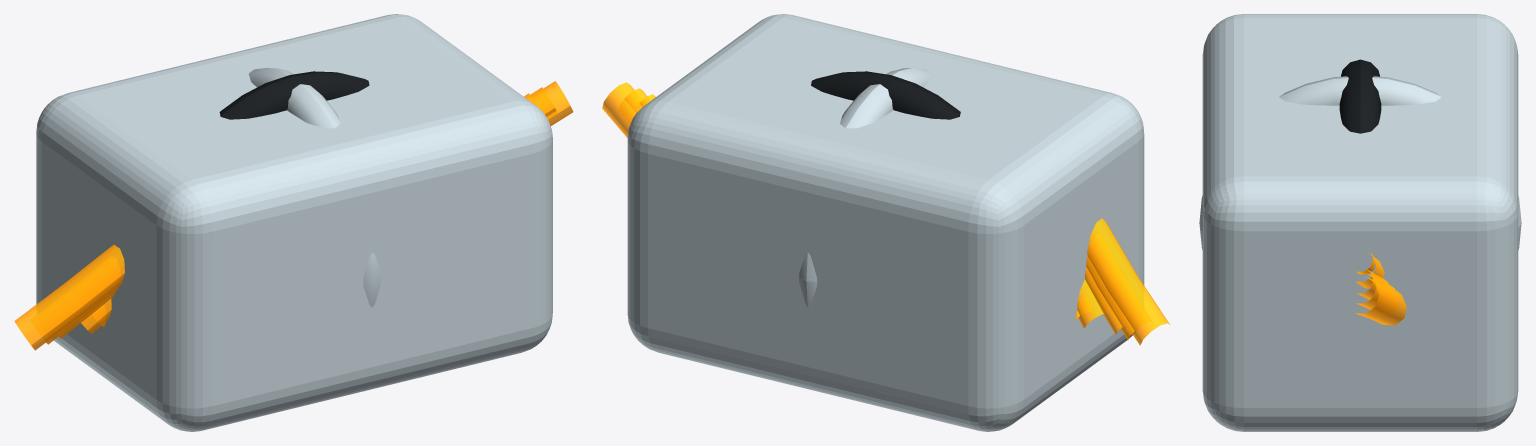
The model's file is remaining_systems_09.glb.
3 views of the same model, side by side, from view 1: azimuth 30°, elevation 25°; view 2: azimuth 150°, elevation 25°; view 3: azimuth 270°, elevation 25° (orthographic).
Parts seen in each view (by area): view 1: asset_mesh__remaining_systems_0908__reference_body, asset_mesh__remaining_systems_0971__fluid_path, asset_mesh__remaining_systems_0970__service_element, asset_mesh__remaining_systems_0916__functional_ring, asset_mesh__remaining_systems_0979__fluid_path; view 2: asset_mesh__remaining_systems_0908__reference_body, asset_mesh__remaining_systems_0971__fluid_path, asset_mesh__remaining_systems_0970__service_element, asset_mesh__remaining_systems_0916__functional_ring, asset_mesh__remaining_systems_0979__fluid_path, asset_mesh__remaining_systems_0969__fluid_path, asset_mesh__remaining_systems_0976__fluid_path; view 3: asset_mesh__remaining_systems_0908__reference_body, asset_mesh__remaining_systems_0916__functional_ring, asset_mesh__remaining_systems_0970__service_element, asset_mesh__remaining_systems_0971__fluid_path.
Part boxes in pixels (left/top/right/bottom): asset_mesh__remaining_systems_0908__reference_body: left=36, top=14, right=552, bottom=431; asset_mesh__remaining_systems_0971__fluid_path: left=14, top=81, right=573, bottom=350; asset_mesh__remaining_systems_0970__service_element: left=219, top=71, right=369, bottom=119; asset_mesh__remaining_systems_0916__functional_ring: left=248, top=67, right=381, bottom=307; asset_mesh__remaining_systems_0979__fluid_path: left=46, top=87, right=556, bottom=344; asset_mesh__remaining_systems_0908__reference_body: left=627, top=14, right=1144, bottom=431; asset_mesh__remaining_systems_0971__fluid_path: left=602, top=82, right=1169, bottom=345; asset_mesh__remaining_systems_0970__service_element: left=811, top=71, right=960, bottom=119; asset_mesh__remaining_systems_0916__functional_ring: left=798, top=67, right=931, bottom=307; asset_mesh__remaining_systems_0979__fluid_path: left=624, top=88, right=1134, bottom=339; asset_mesh__remaining_systems_0969__fluid_path: left=639, top=94, right=1122, bottom=334; asset_mesh__remaining_systems_0976__fluid_path: left=1077, top=279, right=1103, bottom=328; asset_mesh__remaining_systems_0908__reference_body: left=1202, top=14, right=1518, bottom=431; asset_mesh__remaining_systems_0916__functional_ring: left=1199, top=76, right=1521, bottom=250; asset_mesh__remaining_systems_0970__service_element: left=1339, top=59, right=1381, bottom=133; asset_mesh__remaining_systems_0971__fluid_path: left=1355, top=277, right=1406, bottom=325.
Size of the model in its own units: 1.73 by 0.8732 by 0.8573.
